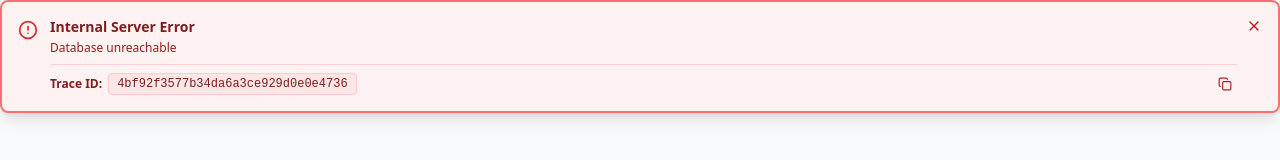
Scenario: ErrorToast Component & ToastContext System › Trace ID One-Click Copy Behavior › calls navigator.clipboard.writeText with exact trace ID and toggles copied state indicator
The width and height of the screenshot is (1280, 160).
Click the button named "copy trace id". click: click(1225, 84)
box: x1=1212 y1=74 x2=1238 y2=92
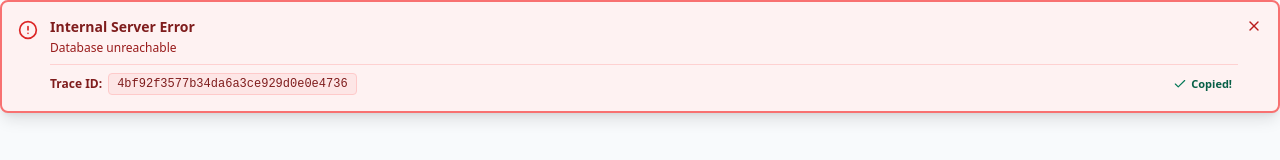
Expected: the text "Copied!" is shown, x1=1191 y1=76 x2=1232 y2=92
